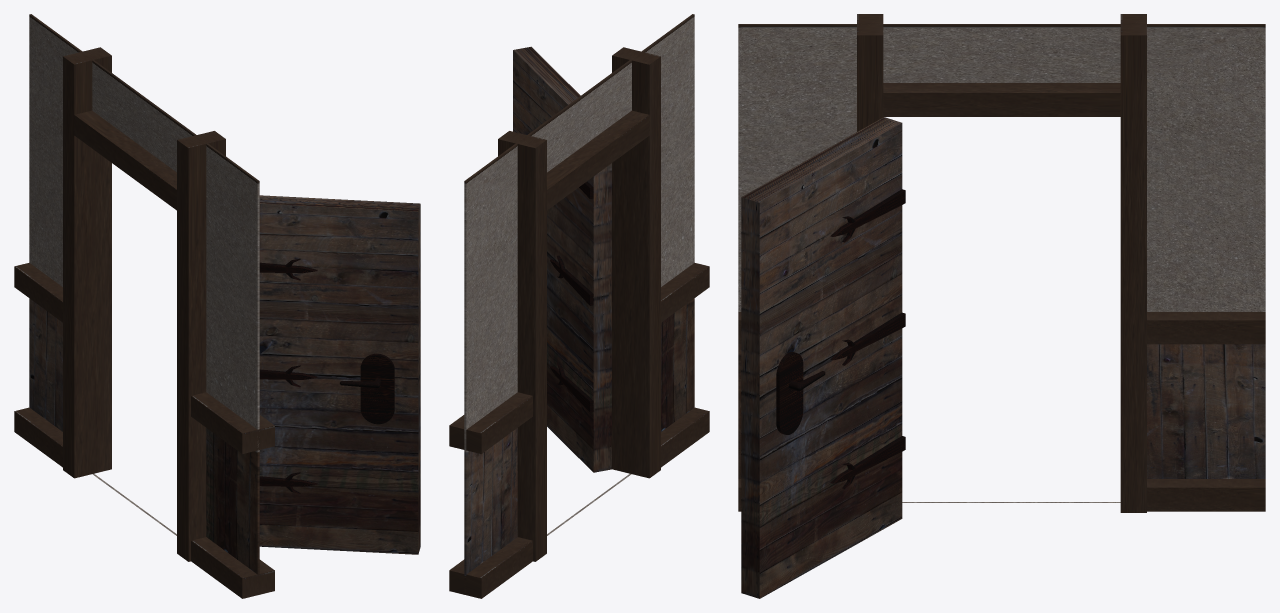
The model's file is OutdoorArchitecture_BasicWall02_Door01_OpenDoor_NoEdges_BShortt.fbx.
3 renders of one model, left to right at view 1: azimuth 30°, elevation 25°; view 2: azimuth 150°, elevation 25°; view 3: azimuth 270°, elevation 25°, orthographic. The views are drawn at different scales.
Visible parts, largest first — view 1: OutdoorArchitecture_BasicWall02_Door01_OpenDoor_NoEdges_BSho; view 2: OutdoorArchitecture_BasicWall02_Door01_OpenDoor_NoEdges_BSho; view 3: OutdoorArchitecture_BasicWall02_Door01_OpenDoor_NoEdges_BSho.
Boxes of the visible parts, x1,y1,x2,y2 form: OutdoorArchitecture_BasicWall02_Door01_OpenDoor_NoEdges_BSho: (14,14,420,598); OutdoorArchitecture_BasicWall02_Door01_OpenDoor_NoEdges_BSho: (449,14,709,598); OutdoorArchitecture_BasicWall02_Door01_OpenDoor_NoEdges_BSho: (738,14,1265,598).
Size of the model in its own units: 144 by 300 by 300.
